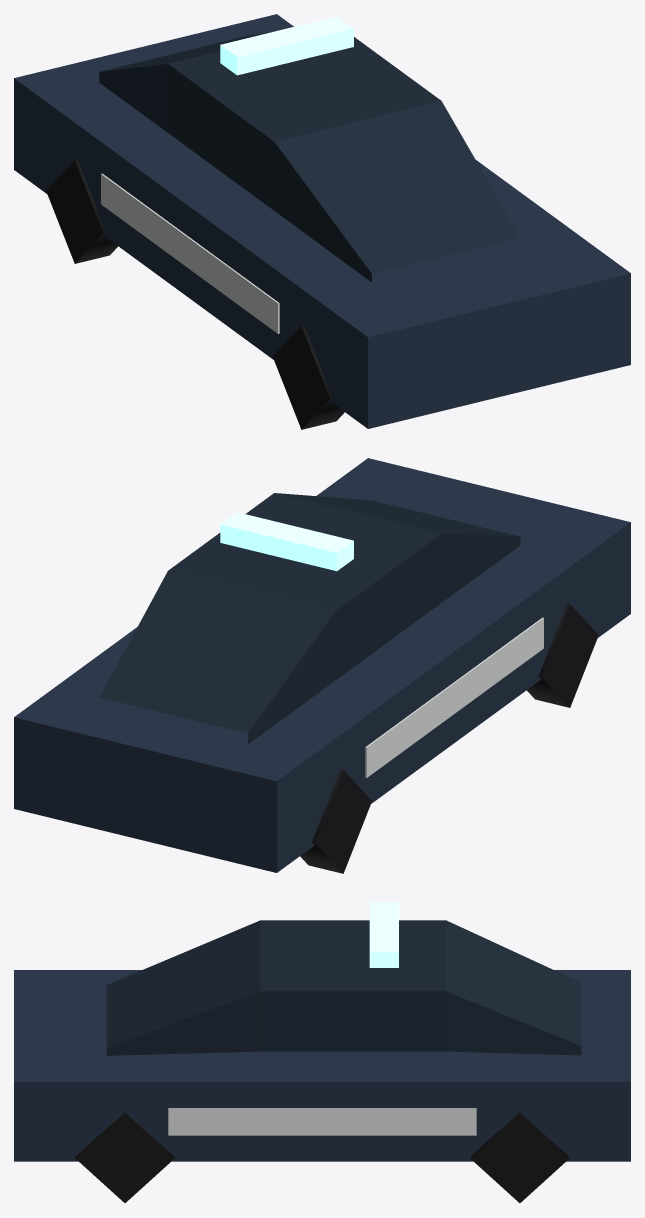
Rendered from veh_ground_police_car_a08_lod2.glb.
3 views of the same model, one above another, from view 1: azimuth 30°, elevation 25°; view 2: azimuth 150°, elevation 25°; view 3: azimuth 270°, elevation 25° (orthographic). The views are drawn at different scales.
Parts seen in each view (by area): view 1: body, wheel_0, wheel_2; view 2: body, wheel_2, wheel_0; view 3: body, wheel_1, wheel_3.
Boxes of the visible parts, left/top/right/bottom form: body: left=14, top=14, right=630, bottom=428; wheel_0: left=46, top=159, right=118, bottom=263; wheel_2: left=273, top=325, right=344, bottom=429; body: left=14, top=458, right=630, bottom=872; wheel_2: left=526, top=603, right=598, bottom=707; wheel_0: left=300, top=769, right=371, bottom=873; body: left=14, top=902, right=630, bottom=1161; wheel_1: left=470, top=1112, right=569, bottom=1202; wheel_3: left=75, top=1112, right=174, bottom=1202.
Size of the model in its own units: 1.84 by 1.65 by 4.2.
